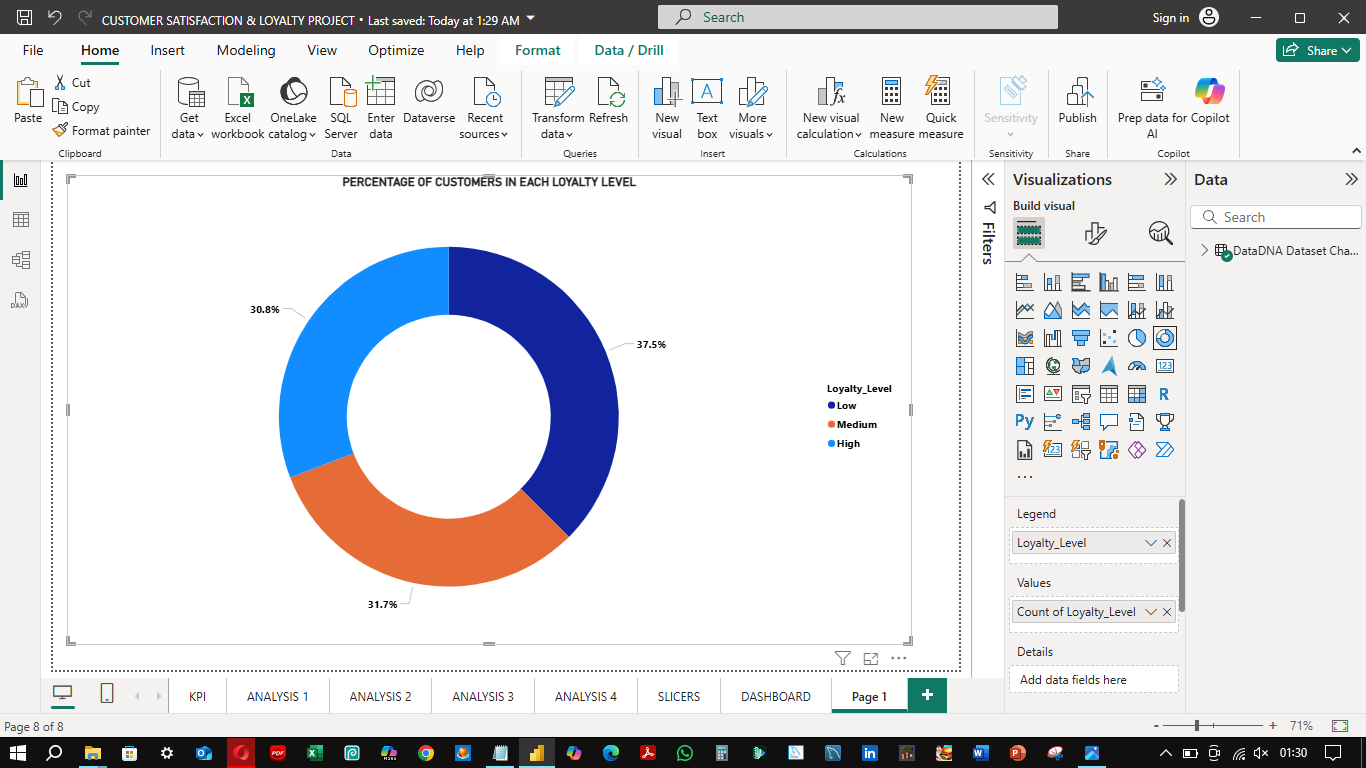

This screenshot's page, from the dashboard's own definition file:
{"tool":"powerbi","page":{"name":"ANALYSIS 3","canvas":[1280,720],"ordinal":3},"visuals":[{"type":"pieChart","title":"LOYALTY LEVEL VS SUPPORT CONTACTED","fields":{"Category":["DataDNA Dataset Challenge - Cus.Support_Contacted"],"Y":["CountNonNull(DataDNA Dataset Challenge - Cus.Loyalty_Level)"]},"box":[33.9,408,429.2,279.5],"z":0},{"type":"donutChart","title":"PERCENTAGE OF CUSTOMERS IN EACH LOYALTY LEVEL","fields":{"Category":["DataDNA Dataset Challenge - Cus.Loyalty_Level"],"Y":["CountNonNull(DataDNA Dataset Challenge - Cus.Loyalty_Level)"]},"box":[19.8,21.2,357.2,310.6],"z":1000},{"type":"barChart","title":"NET PROMOTER SCORE BY REGION","fields":{"Category":["DataDNA Dataset Challenge - Cus.Location"],"Y":["CountNonNull(DataDNA Dataset Challenge - Cus.NPS_CATEGORY)"],"Series":["DataDNA Dataset Challenge - Cus.NPS_CATEGORY"]},"box":[376.9,0,484.2,458.8],"z":2000},{"type":"gauge","fields":{"Y":["DataDNA Dataset Challenge - Cus.SATISFACTION RATE %"]},"box":[851.3,63.5,429,234],"z":3000}]}

Visuals, with their boxes on the page's 1280x720 design canvas (x1, y1, x2, y2). These are canvas units, not pixel positions in the 1366x768 screenshot, which may show the page scaled, cropped or inside an application window:
"LOYALTY LEVEL VS SUPPORT CONTACTED" pieChart: l=34, t=408, r=463, b=688
"PERCENTAGE OF CUSTOMERS IN EACH LOYALTY LEVEL" donutChart: l=20, t=21, r=377, b=332
"NET PROMOTER SCORE BY REGION" barChart: l=377, t=0, r=861, b=459
gauge - DataDNA Dataset Challenge - Cus.SATISFACTION RATE %: l=851, t=64, r=1280, b=298
